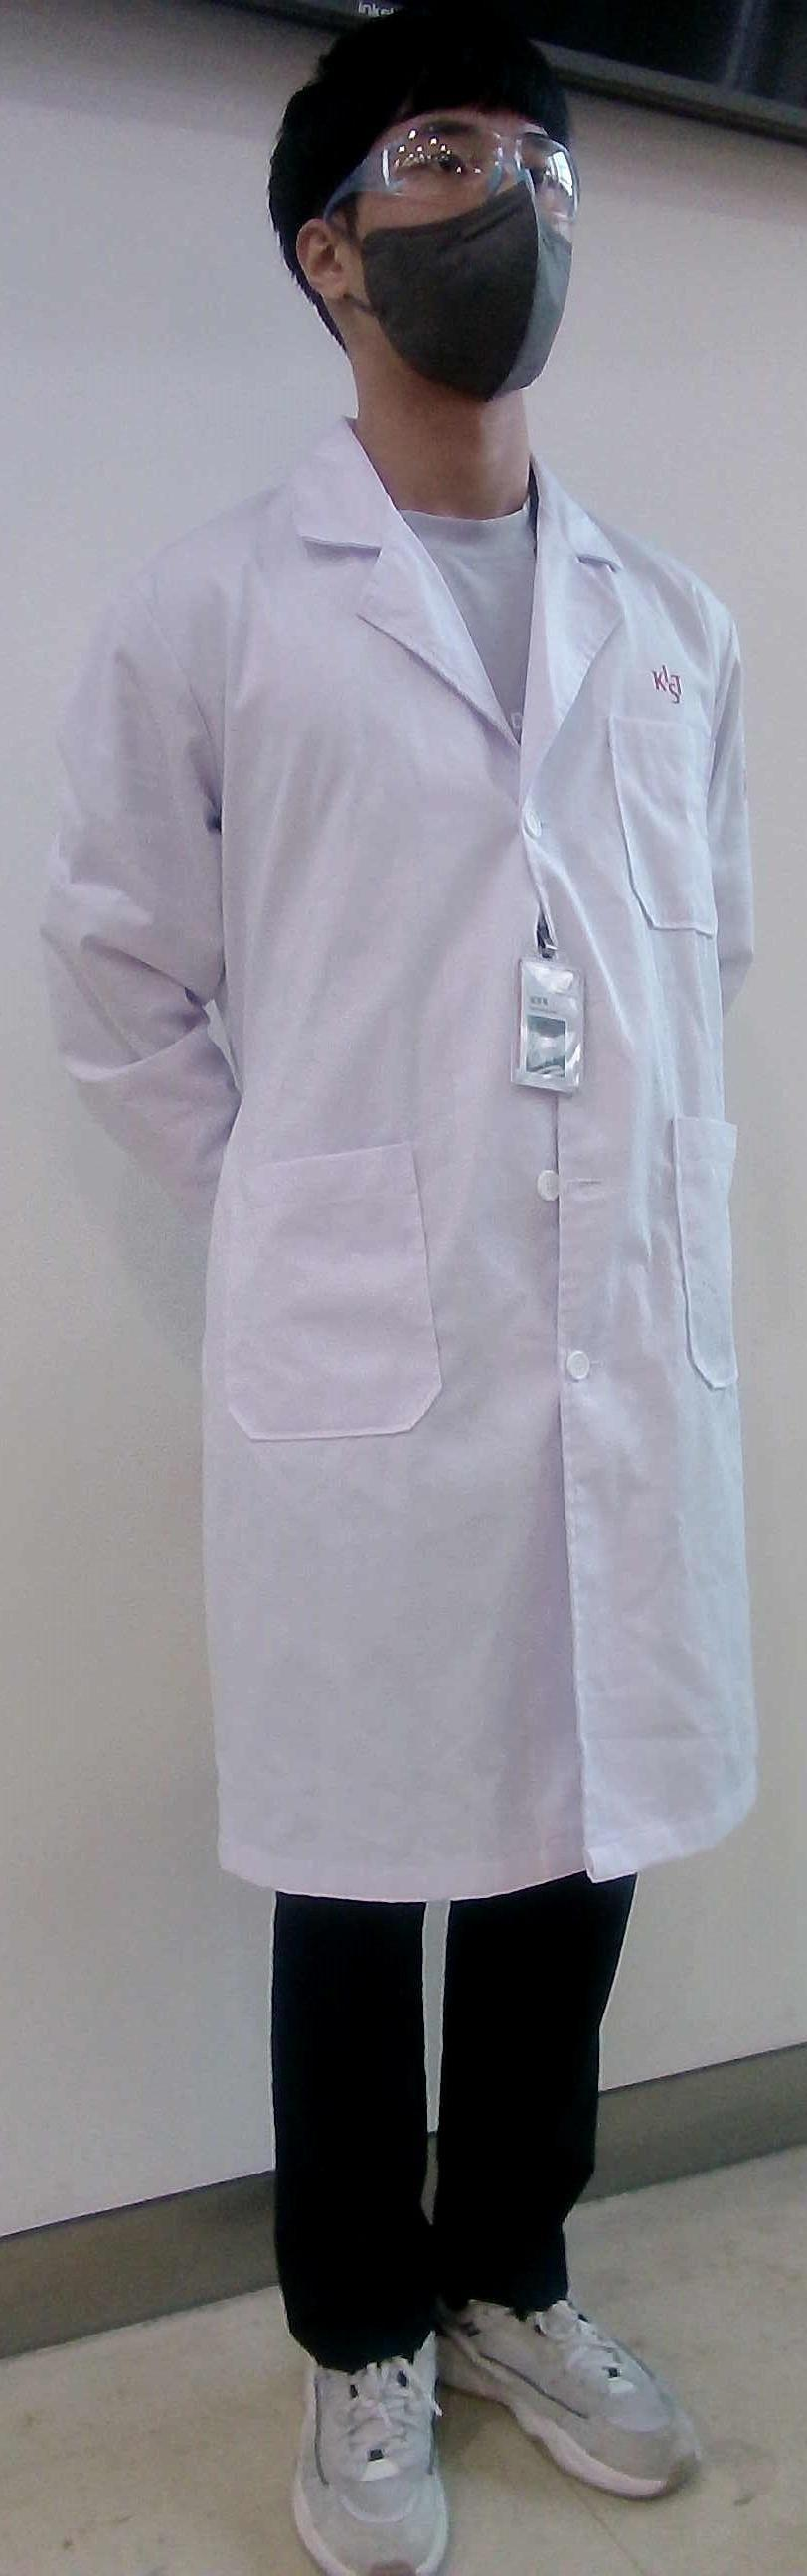lab_coat: (176, 488, 781, 1891)
